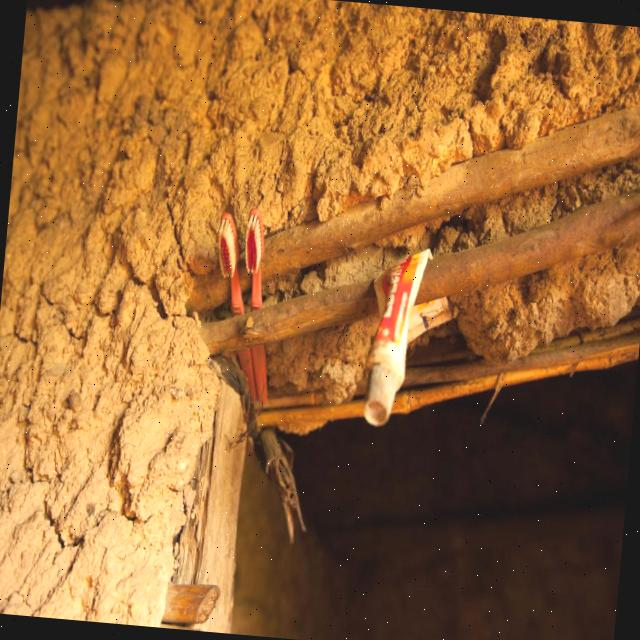Toothpaste: (358, 239, 463, 436)
